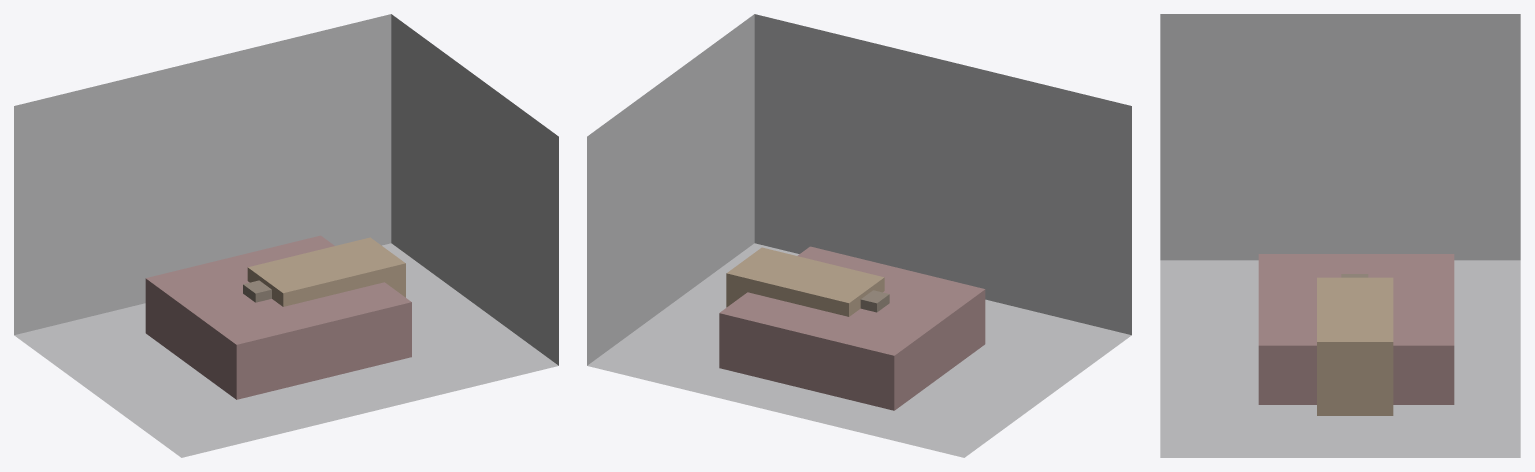
Rendered from current_layout.glb.
The picture shows the model from 3 angles, left to right: view 1: azimuth 30°, elevation 25°; view 2: azimuth 150°, elevation 25°; view 3: azimuth 270°, elevation 25°; orthographic projection. The views are drawn at different scales.
Parts seen in each view (by area): view 1: room, bed, desk; view 2: room, bed, desk; view 3: room, bed, desk.
Boxes of the visible parts, x1,y1,x2,y2 form: room: (14,14,558,457); bed: (145,235,411,399); desk: (247,237,405,306); room: (587,14,1131,457); bed: (719,246,985,410); desk: (726,247,884,316); room: (1160,14,1520,457); bed: (1258,254,1454,404); desk: (1317,277,1393,415).
Size of the model in its own units: 4.31 by 2.5 by 3.31.
